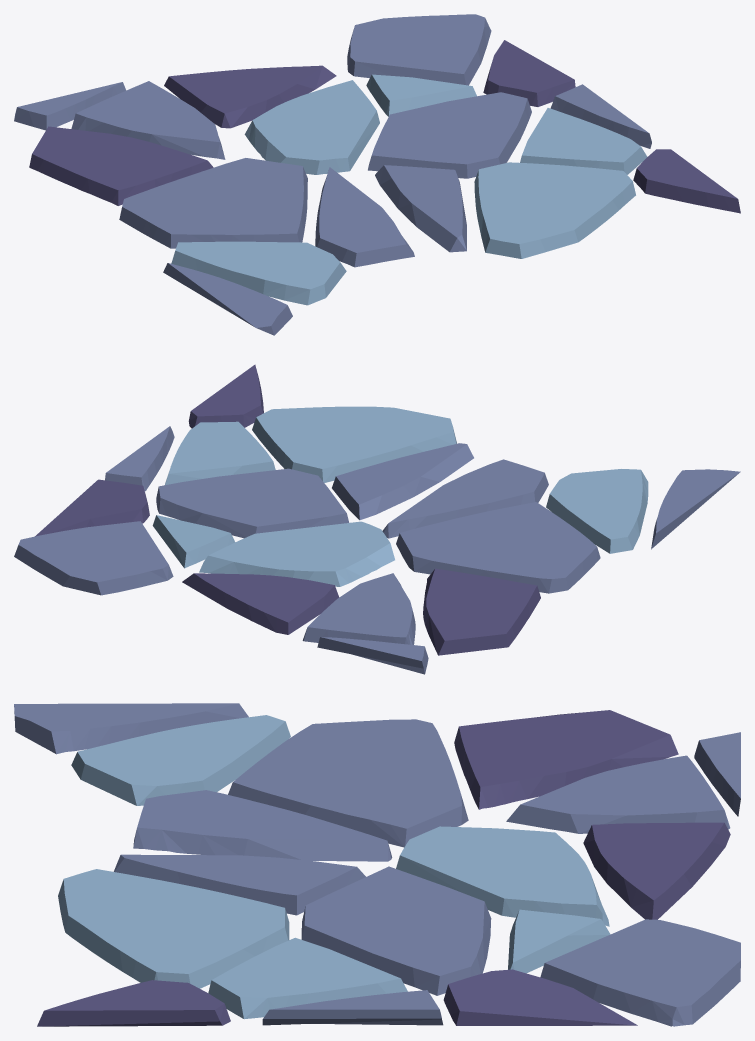
The model's file is Floor_Stones_05.fbx.
3 views of the same model, one above another, from view 1: azimuth 30°, elevation 25°; view 2: azimuth 150°, elevation 25°; view 3: azimuth 270°, elevation 25° (orthographic). The views are drawn at different scales.
Visible parts, largest first — view 1: Floor_Stone_3; view 2: Floor_Stone_3; view 3: Floor_Stone_3.
Boxes of the visible parts, <box> form: Floor_Stone_3: <box>14,14,740,335</box>; Floor_Stone_3: <box>14,364,740,674</box>; Floor_Stone_3: <box>14,703,740,1026</box>.
Bounding box in the file's own units: 400 × 13.11 × 401.
